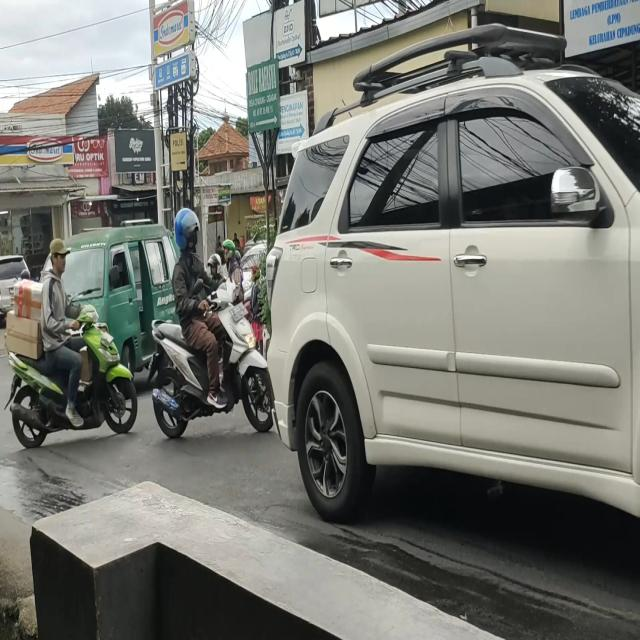helmet: (175, 208, 201, 255), (220, 236, 236, 264), (206, 256, 226, 277)
no-helmet: (47, 241, 70, 279)
